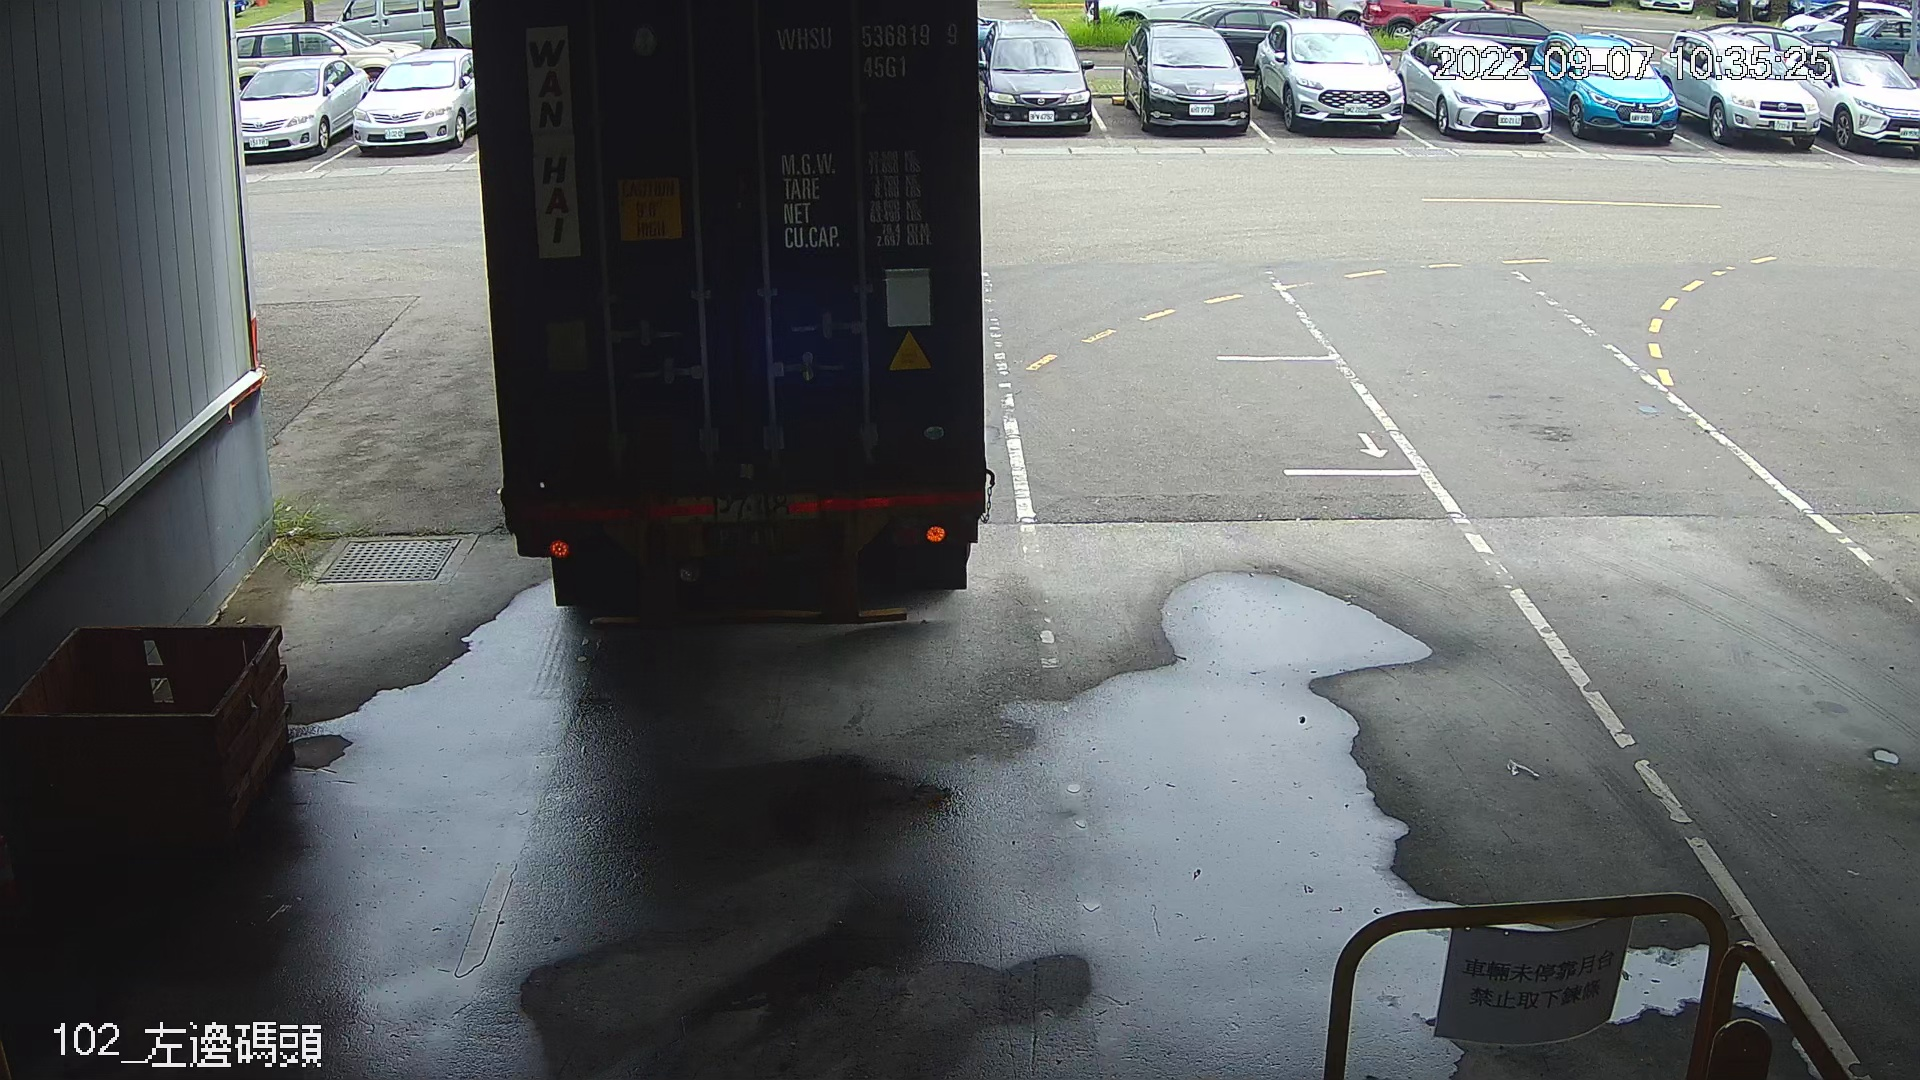container: (771, 16, 963, 87)
